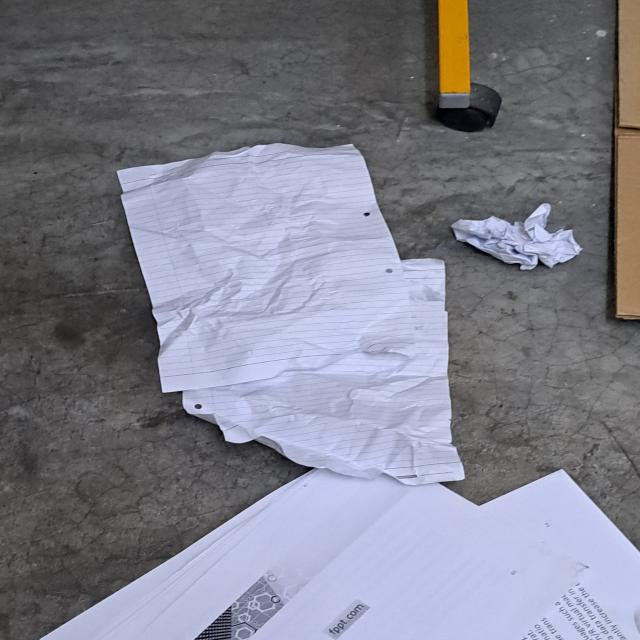paper: (115, 146, 464, 484), (37, 468, 640, 640), (451, 203, 581, 270)
